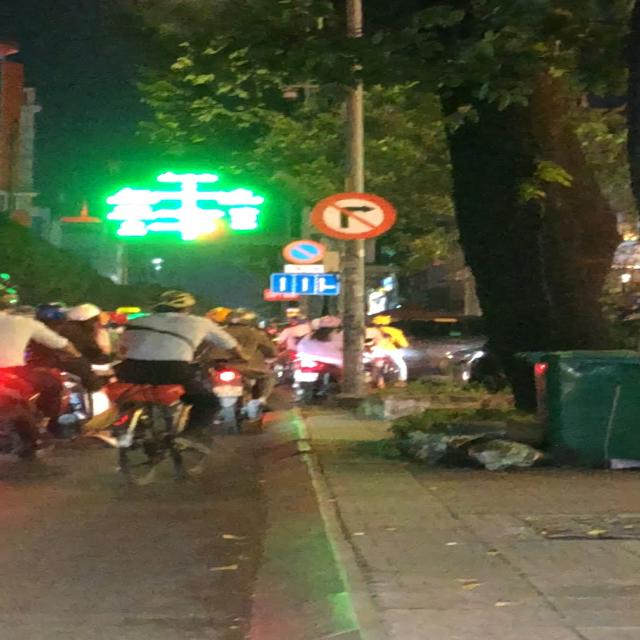Bien bao cam re phai: (307, 190, 397, 238)
